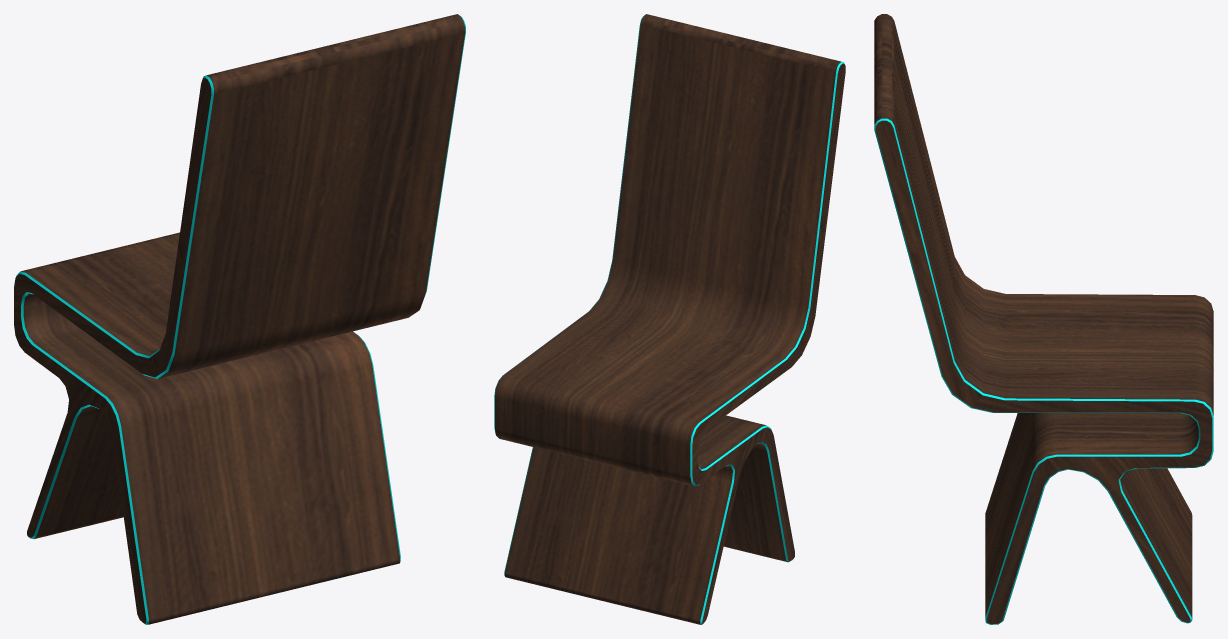
Rendered from FUR0310008.fbx.
3 renders of one model, left to right at view 1: azimuth 30°, elevation 25°; view 2: azimuth 150°, elevation 25°; view 3: azimuth 270°, elevation 25°, orthographic. The views are drawn at different scales.
Parts seen in each view (by area): view 1: smFUR0310008; view 2: smFUR0310008; view 3: smFUR0310008.
Boxes of the visible parts, <box> form: smFUR0310008: <box>14,14,465,624</box>; smFUR0310008: <box>494,14,845,624</box>; smFUR0310008: <box>874,14,1213,624</box>.
Size of the model in its own units: 57.61 by 128 by 78.03.
1 material, 1 textured.
